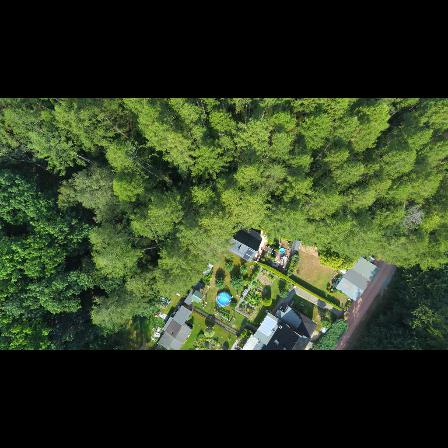Dead: (400, 204, 427, 230)
